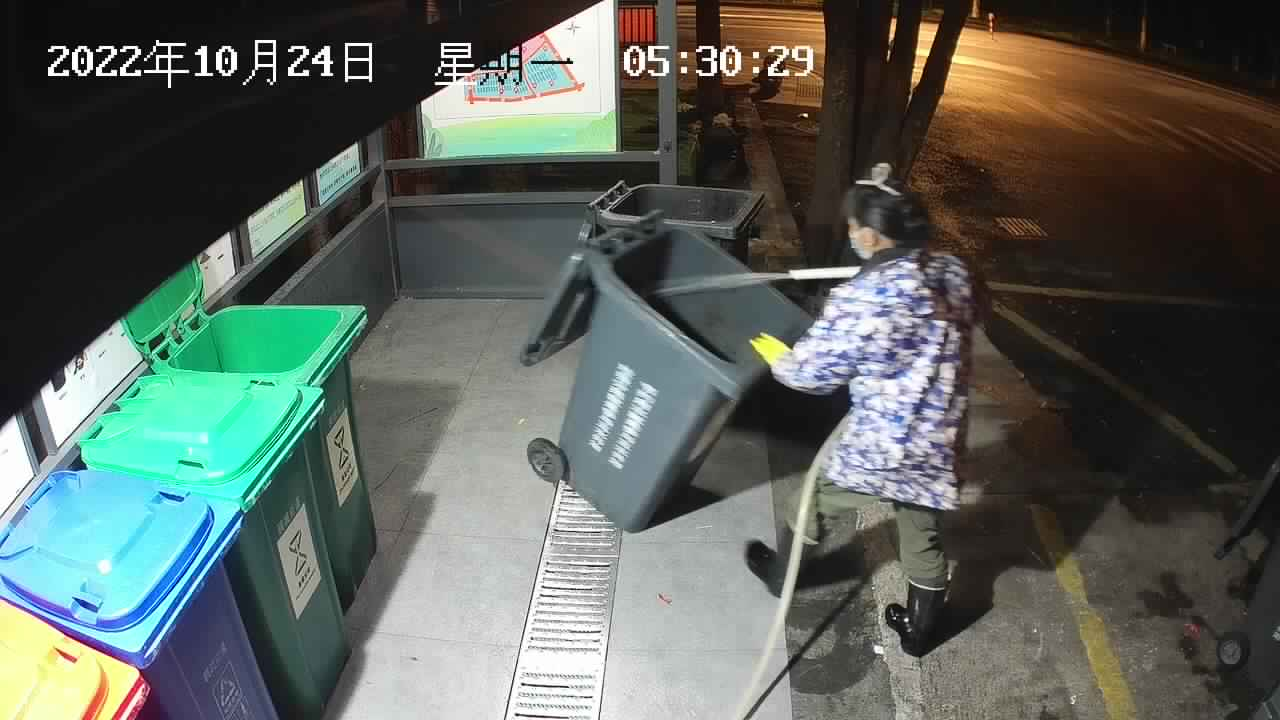worker: (742, 158, 992, 657)
